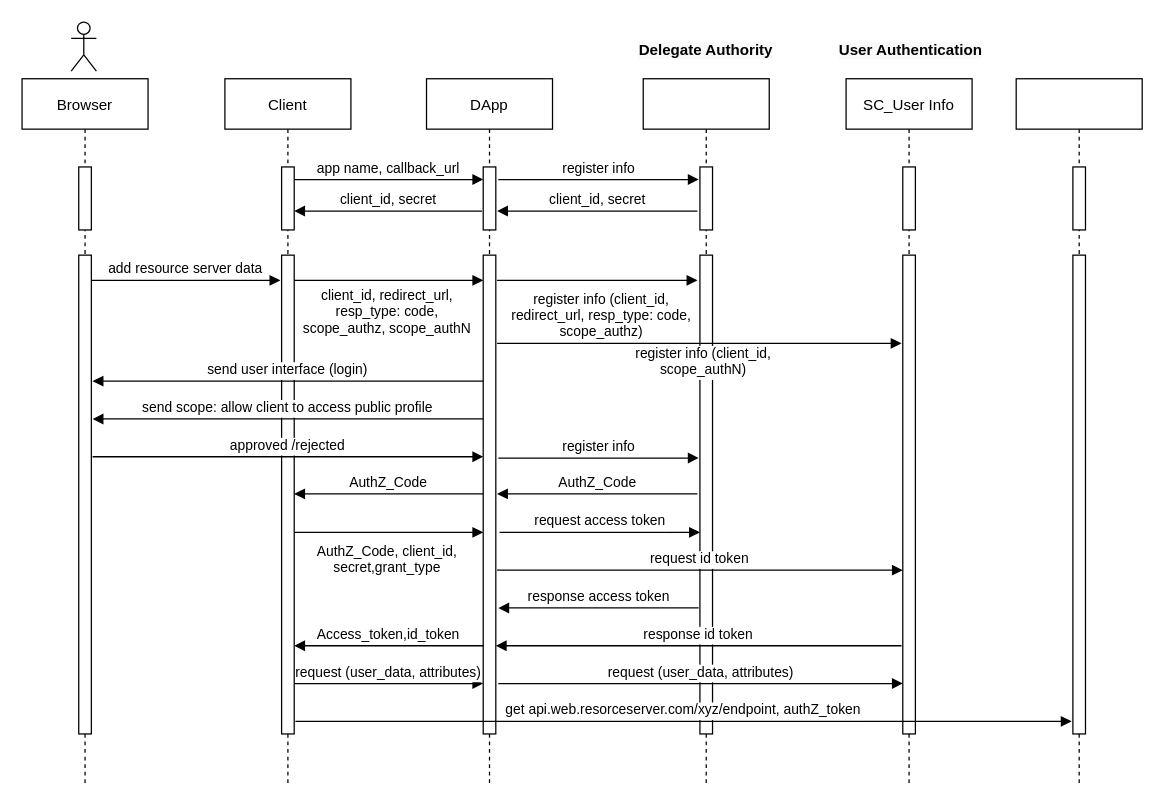
The diagram is 1164 pixels wide and 806 high, and some of its shapes have lost their labels. Each missing label, with the box of its shape:
Resource Server: (1015, 77, 1142, 784)
SC_AuthZ Server: (642, 77, 769, 784)
